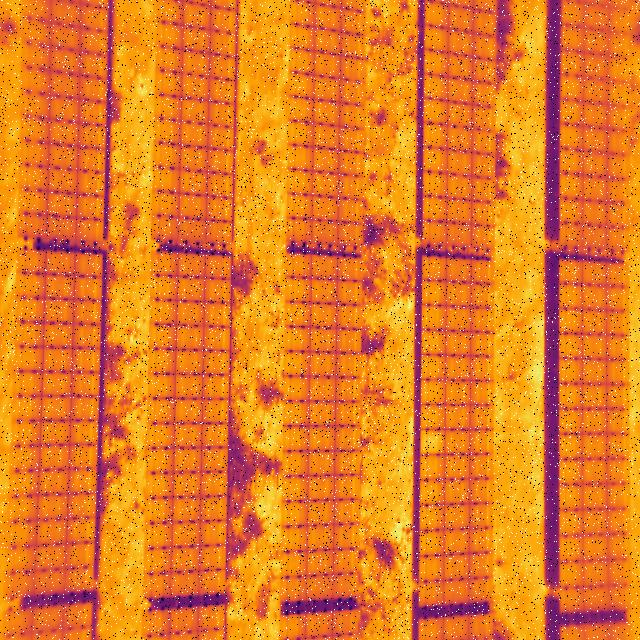Hotspot: (422, 432, 442, 452)
